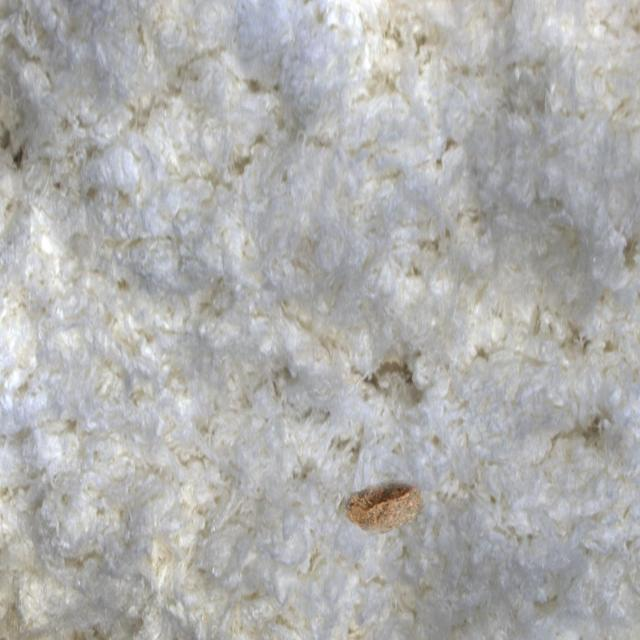dust: (310, 432, 446, 584)
